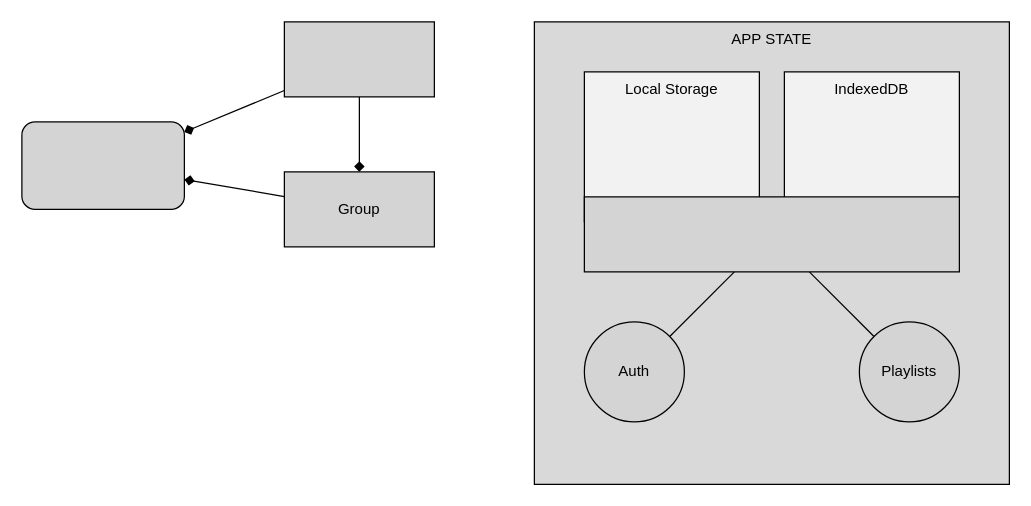
Image size: 1031x506. Some labels were removed from this diagram. Here are the shapes that lost their labels. From the top down, the centre of each, then its label:
(358,59): Track
(102,165): Playlist
(771,234): localForage
